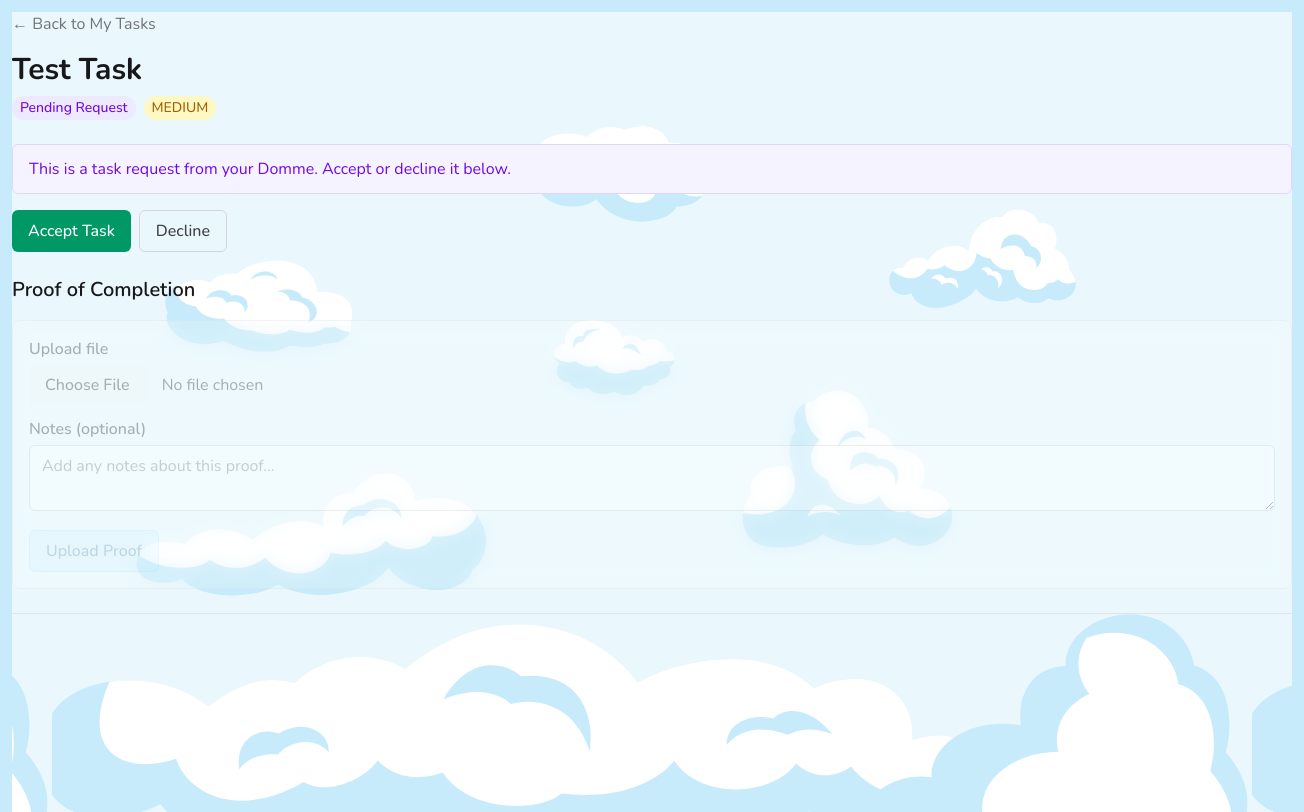
Test: MyTaskDetailClient › hides decline form when Cancel is clicked
Click the button "Decline".
click(183, 231)  # box [139,210,227,252]
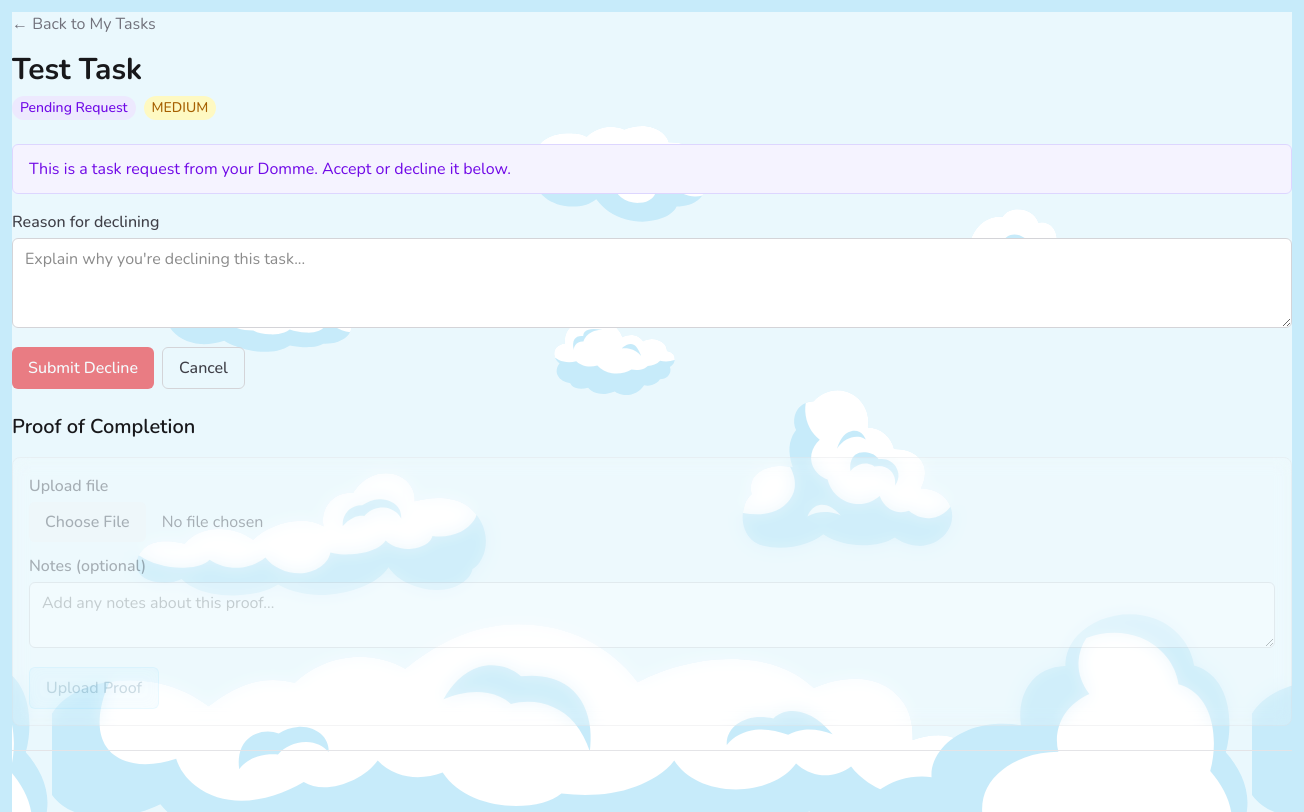
Result: the text box labelled "Reason for declining" is shown at [12,238,1292,328]
Click the button "Cancel".
click(204, 368)  # box [162,347,245,389]
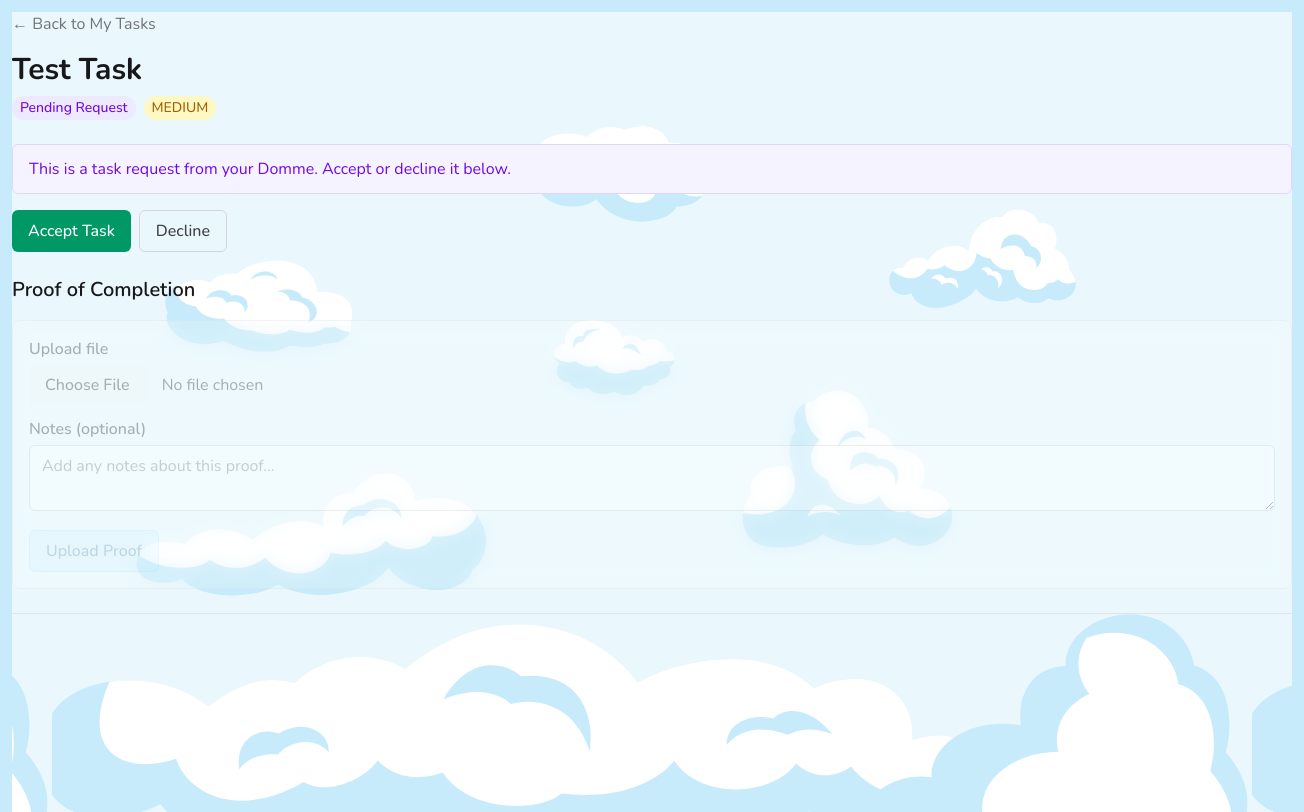
Result: the label labelled "Reason for declining" is gone
